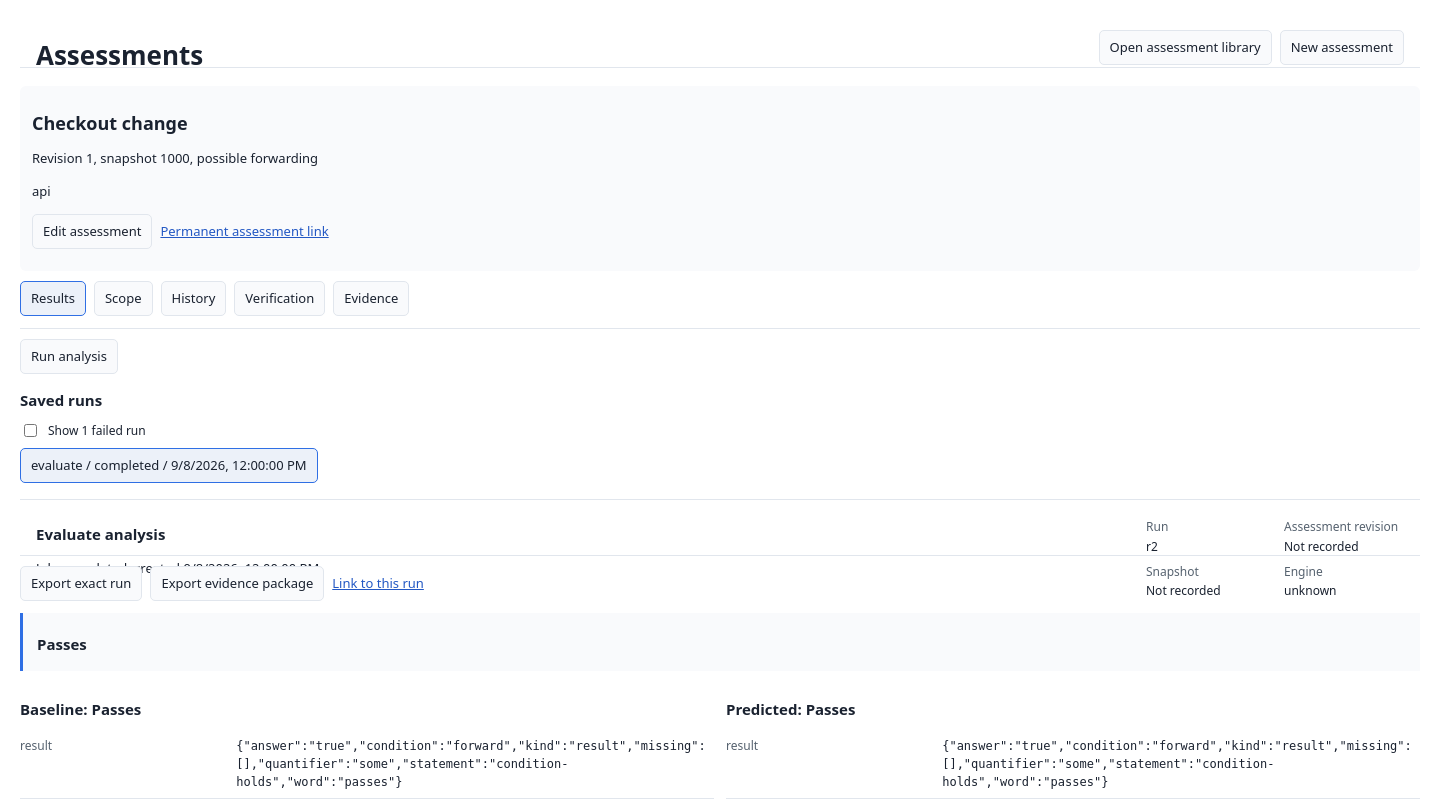
Scenario: Assessments workflow › explains a failed run from the recorded engine exception and hides failed runs from the list until asked
Expected: the button "evaluate / failed" is not shown
Click the checkbox labelled "Show 1 failed run" at [30, 431], box [24,424,37,437]
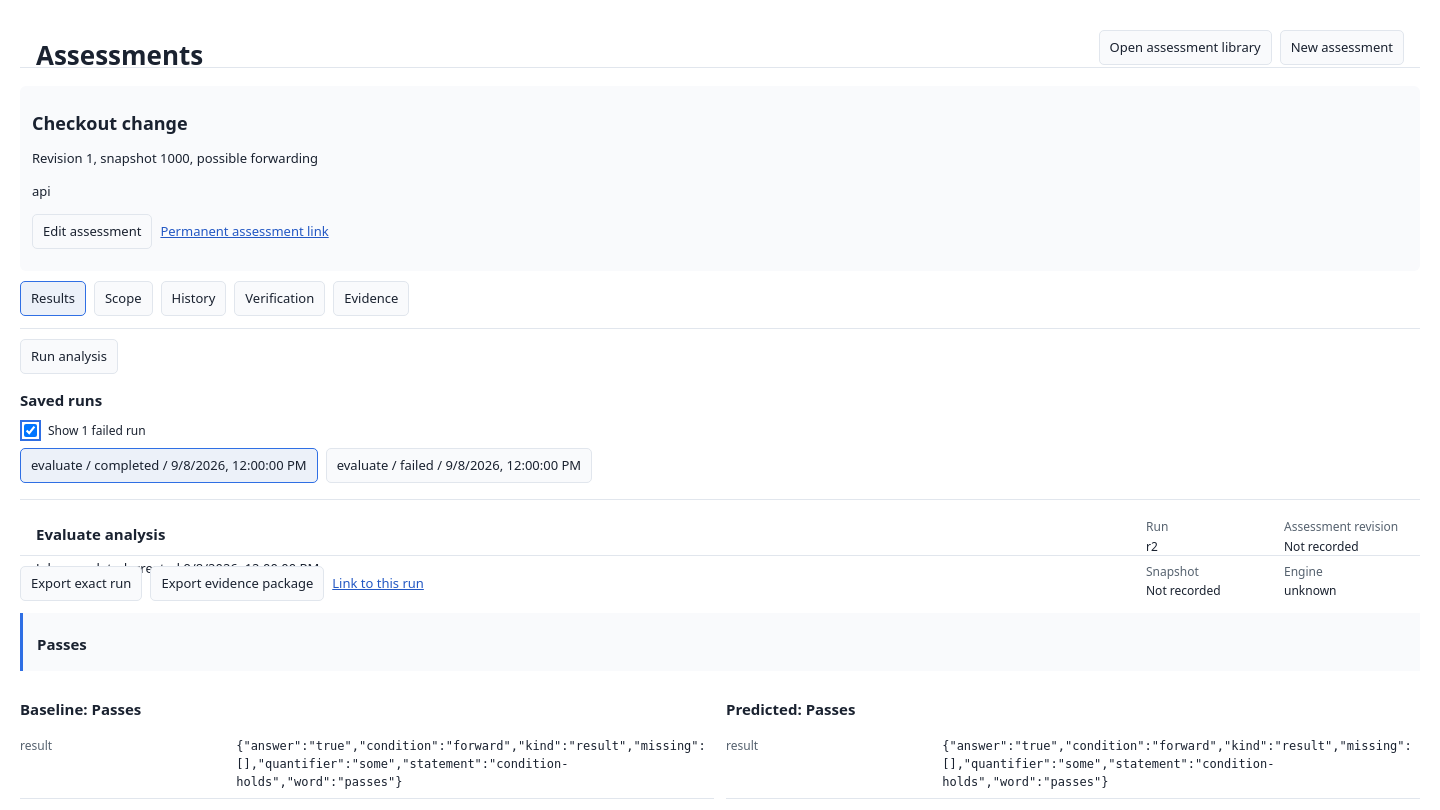
Click the button "evaluate / failed / 9/8/2026, 12:00:00 PM" at [459, 466], box [326,448,592,483]
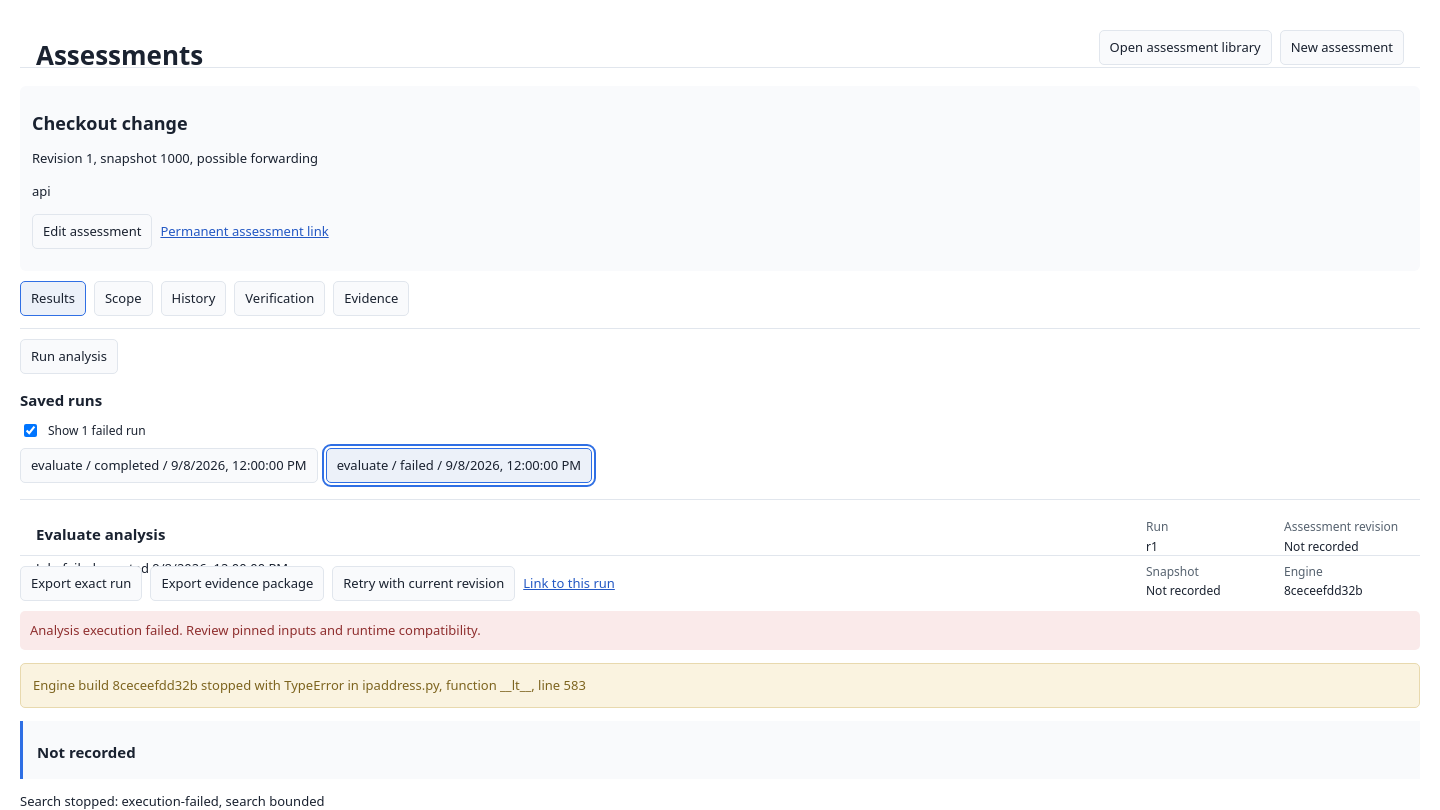
Expected: the text "Engine build 8ceceefdd32b stopped with TypeError in ipaddress.py, function __lt__, line 583" is shown, [33,676,586,694]
Expected: the button "Retry with current revision" is shown, [332,566,515,601]
